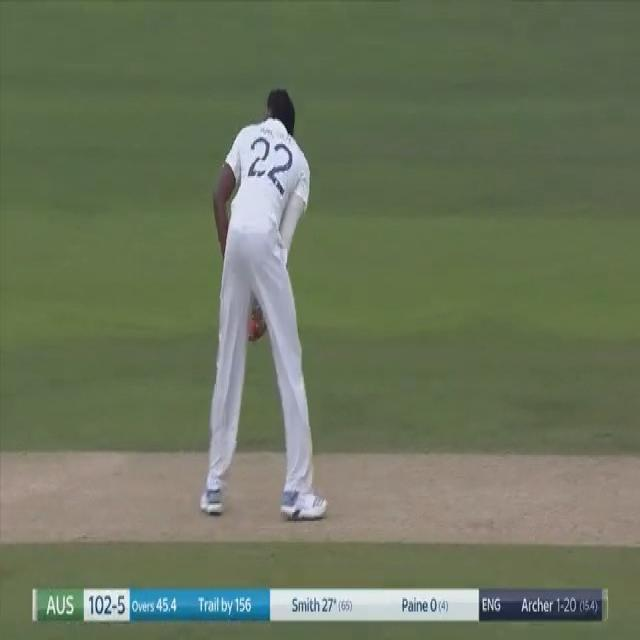ball: (246, 308, 261, 340)
